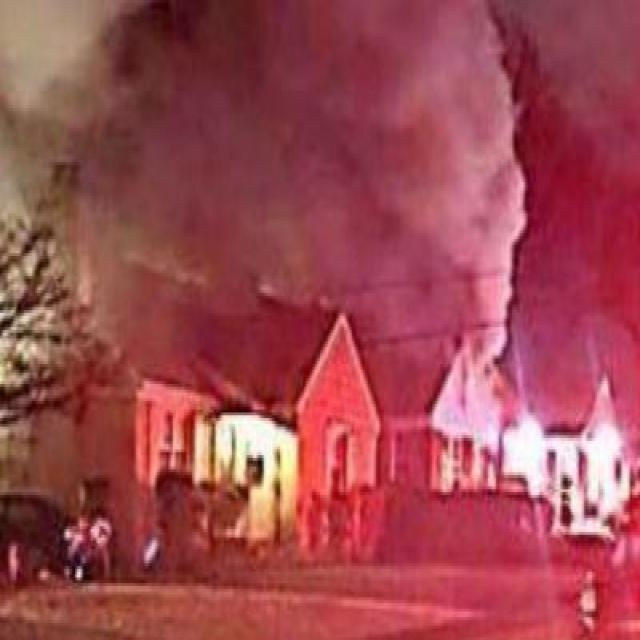smoke: (92, 14, 632, 327)
